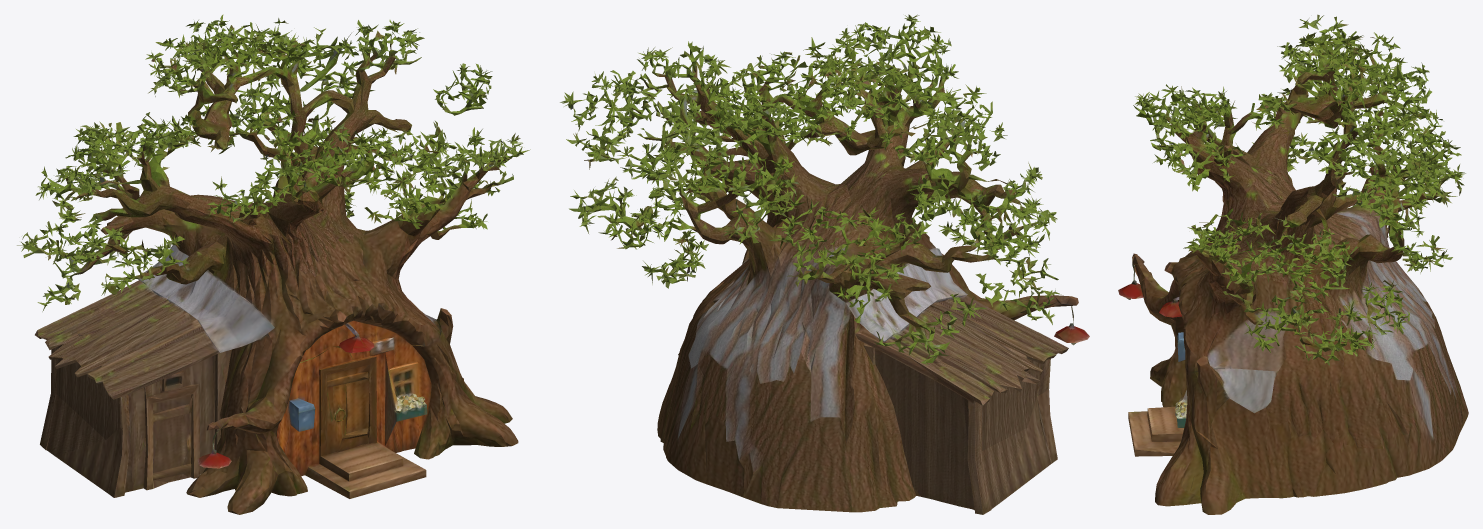
Rendered from treehouse.glb.
3 renders of one model, left to right at view 1: azimuth 30°, elevation 25°; view 2: azimuth 150°, elevation 25°; view 3: azimuth 270°, elevation 25°, orthographic. The views are drawn at different scales.
Visible parts, largest first — view 1: Mesh_0; view 2: Mesh_0; view 3: Mesh_0.
Boxes of the visible parts, bbox=[...] form: Mesh_0: bbox=[17, 14, 530, 514]; Mesh_0: bbox=[560, 14, 1089, 514]; Mesh_0: bbox=[1118, 14, 1468, 514].
Bounding box in the file's own units: 1.81 × 1.4 × 1.18.
Materials: 1 (1 with a texture image).
